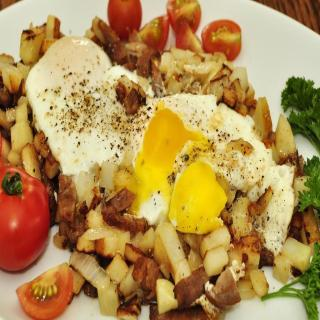tomato: (2, 170, 50, 273), (16, 260, 72, 319), (202, 17, 241, 62), (107, 0, 141, 38), (176, 18, 208, 54), (167, 0, 203, 31), (140, 12, 167, 47)
